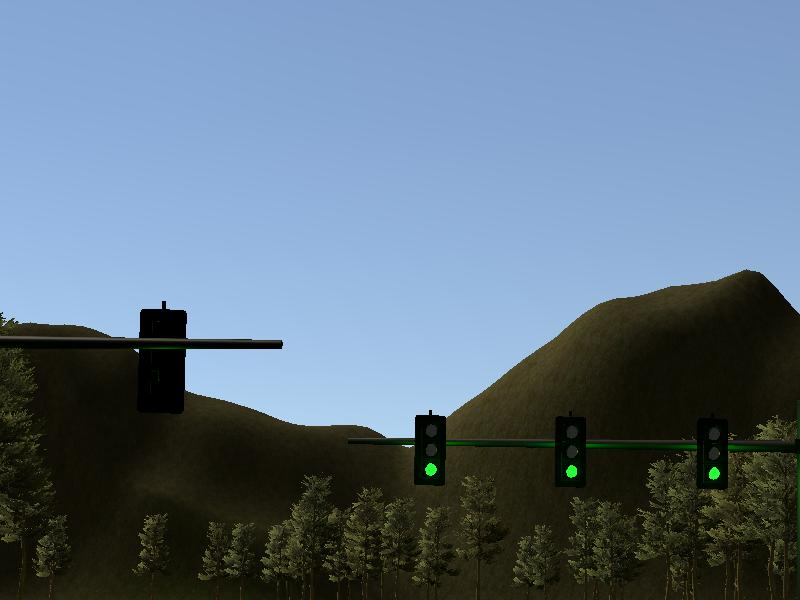Green: (415, 416, 445, 487), (699, 421, 728, 488), (555, 420, 584, 486)
